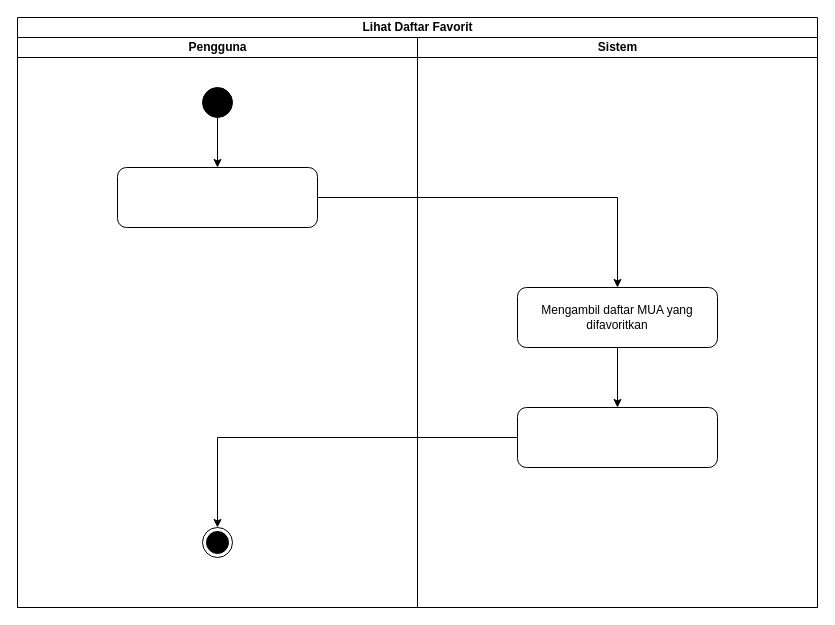
Image size: 835x625. Some labels were removed from this diagram. The shapes that lost their labels are listed below. From the top down, each one's centre as x and y in pixels, then its label:
At [217,197]: "Membuka menu 'Favorit Saya'".
At [617,437]: "Menampilkan daftar favorit".
